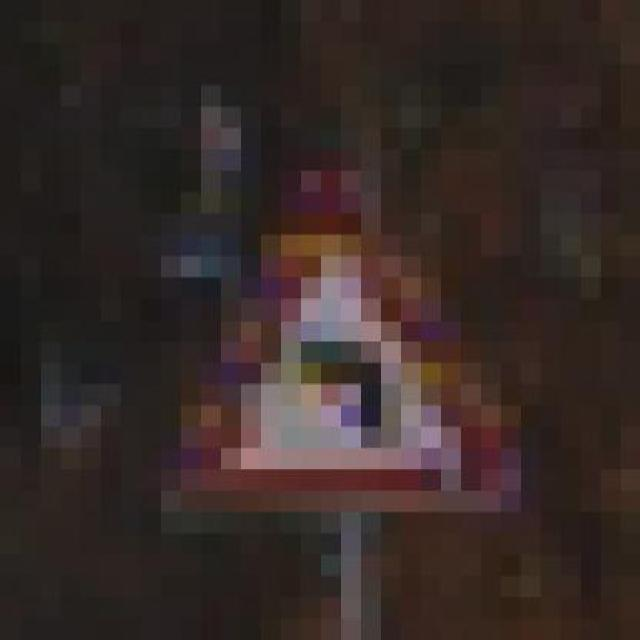Dangerous Left Curve Ahead: (100, 106, 520, 512)
